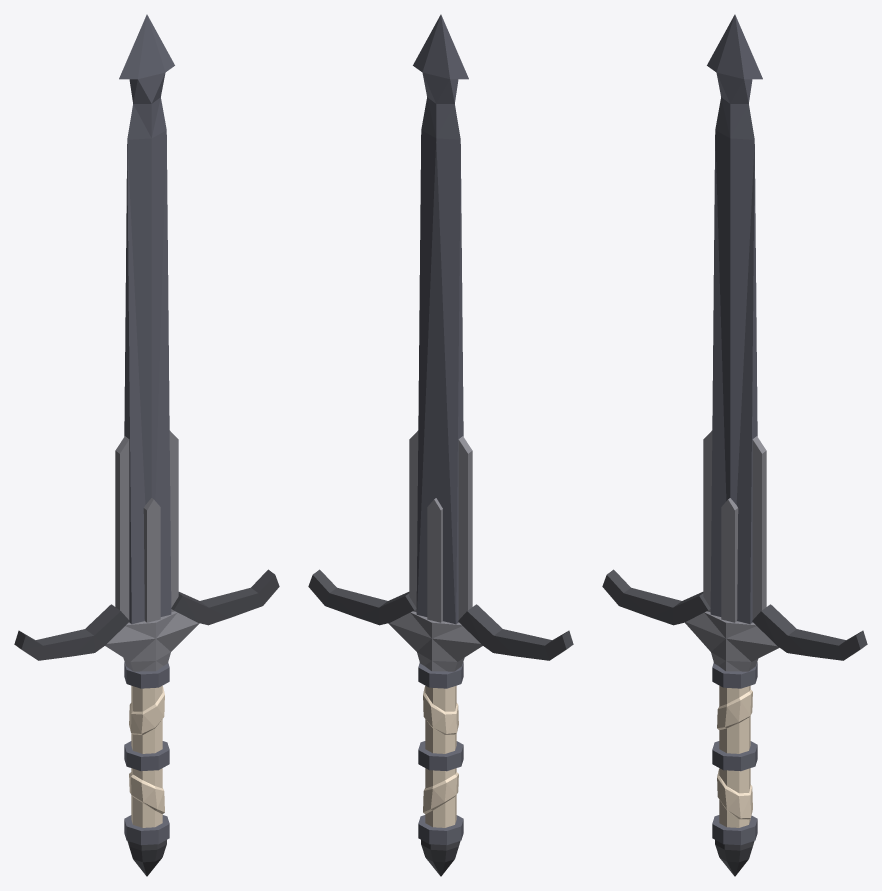
Rendered from _sword_2.fbx.
The picture shows the model from 3 angles, left to right: view 1: azimuth 30°, elevation 25°; view 2: azimuth 150°, elevation 25°; view 3: azimuth 330°, elevation 25°; orthographic projection.
Visible parts, largest first — view 1: sword_2; view 2: sword_2; view 3: sword_2.
Boxes of the visible parts, bbox=[...] form: sword_2: bbox=[14, 14, 279, 876]; sword_2: bbox=[308, 14, 573, 876]; sword_2: bbox=[602, 14, 867, 876].
Size of the model in its own units: 26.79 by 85.56 by 4.23.
